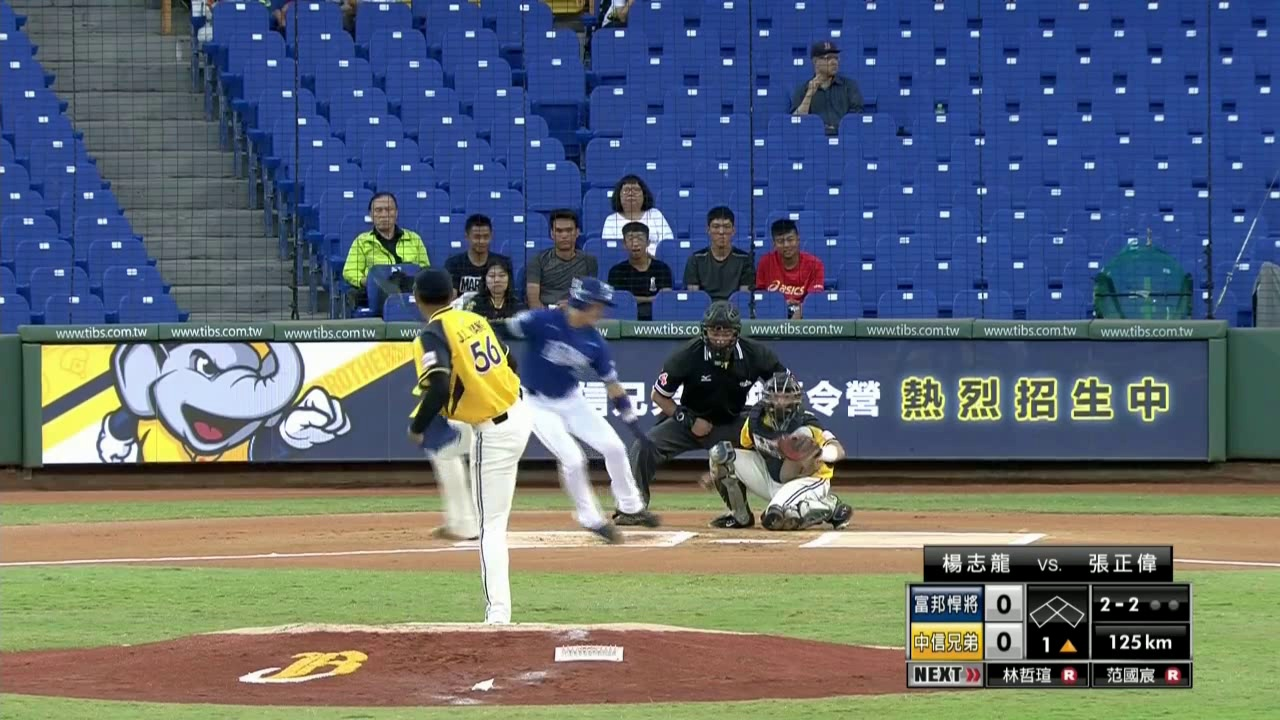base: (1027, 592, 1087, 628)
out: (1145, 595, 1181, 611)
score1: (985, 584, 1023, 620)
score2: (985, 623, 1023, 659)
session: (1037, 634, 1079, 655)
speed: (1101, 631, 1180, 653)
strikeball: (1094, 593, 1142, 614)
